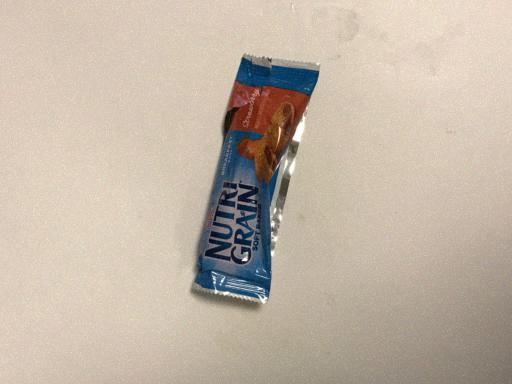trash: (191, 52, 320, 305)
